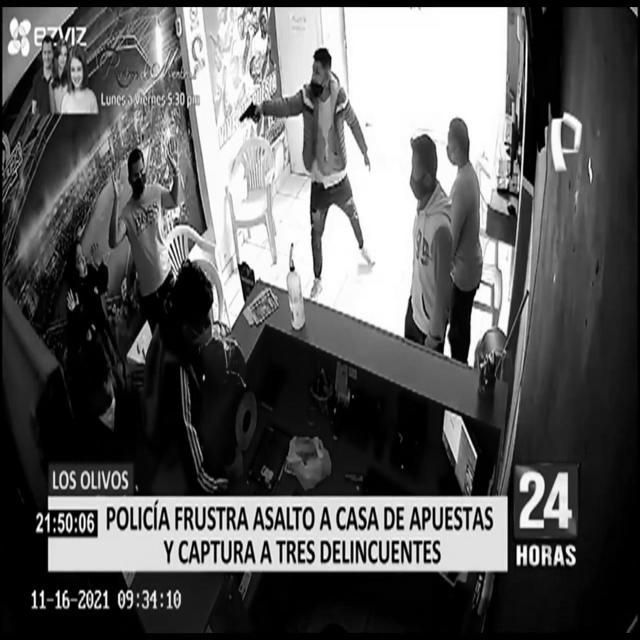Gun: (232, 90, 265, 138)
